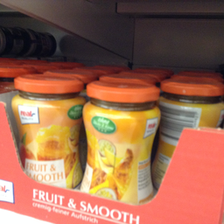jam: (83, 80, 162, 204), (9, 74, 84, 190), (151, 78, 224, 189)
